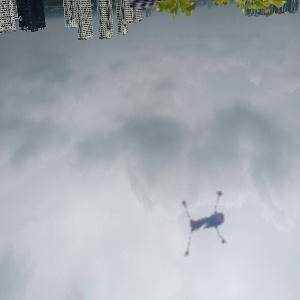drone: (155, 179, 260, 284)
